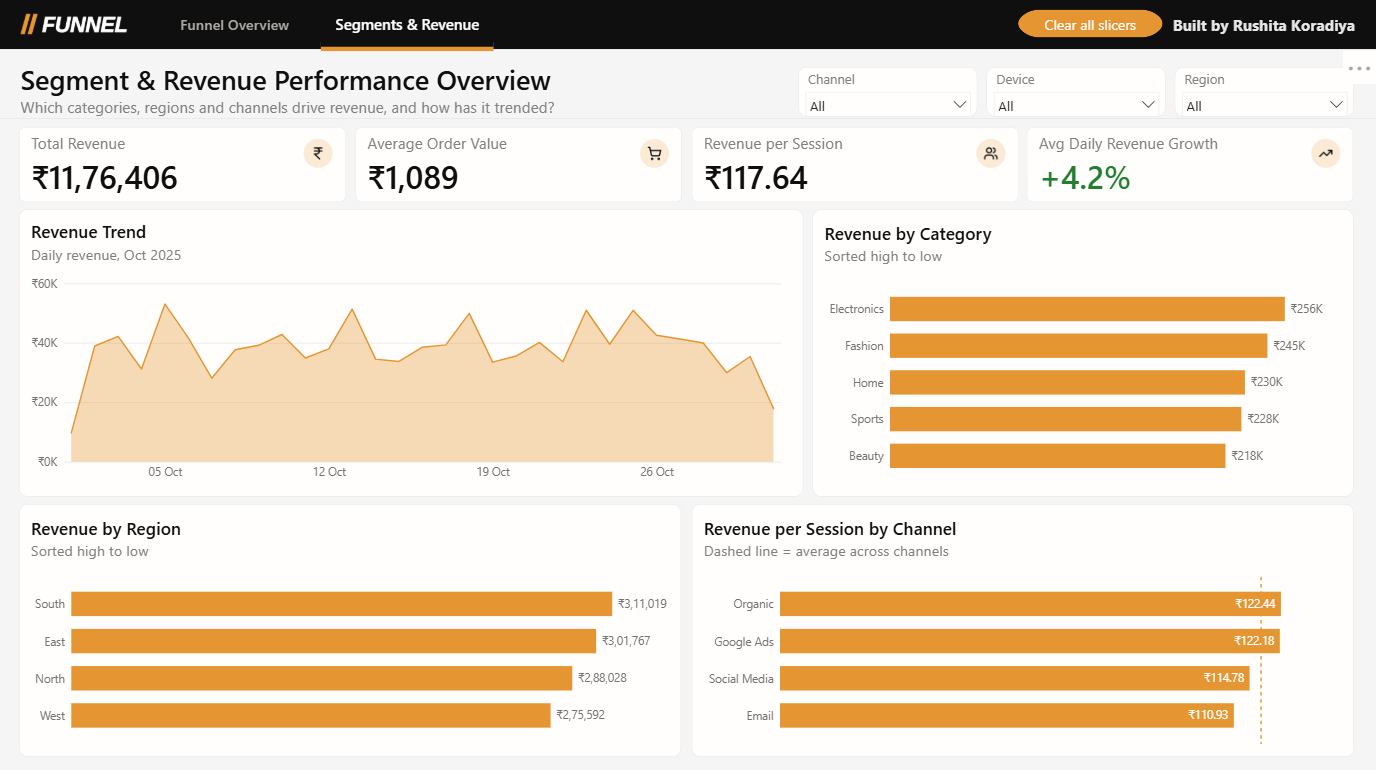

The page's visual inventory and layout, read from the dashboard file:
{"tool":"powerbi","page":{"name":"Segments & Revenue","canvas":[1920,1080],"ordinal":1},"visuals":[{"type":"shape","box":[0,0,1920,72],"z":0,"group":"g6"},{"type":"shape","box":[452,60,240,12],"z":0,"group":"g5"},{"type":"cardVisual","fields":{"Data":["_Measures.Total Revenue"]},"box":[32,180,454,104],"z":0,"group":"g1"},{"type":"shape","box":[452,55,240,12],"z":1000,"group":"g5"},{"type":"textbox","box":[34,88,1051.1,80],"z":1000,"group":"g6"},{"type":"slicer","fields":{"Values":["V_Session.Region"]},"box":[1638,95,249,69],"z":1000},{"type":"cardVisual","fields":{"Data":["_Measures.Average Order Value"]},"box":[499,180,454,104],"z":1000,"group":"g2"},{"type":"slicer","fields":{"Values":["V_Session.Device"]},"box":[1376,95,249,69],"z":2000},{"type":"cardVisual","fields":{"Data":["_Measures.Revenue per Session"]},"box":[966,180,454,104],"z":2000,"group":"g3"},{"type":"slicer","fields":{"Values":["V_Session.Channel"]},"box":[1114,95,249,69],"z":3000},{"type":"cardVisual","fields":{"Data":["_Measures.Weekly Revenue Growth"]},"box":[1433,180,454,104],"z":3000,"group":"g4"},{"type":"group","id":"g1","title":"Group 2","box":[32,180,454,104],"z":4000},{"type":"image","box":[32,16,160,40],"z":5000,"group":"g6"},{"type":"group","id":"g2","title":"Group 3","box":[499,180,454,104],"z":5000},{"type":"group","id":"g3","title":"Group 4","box":[966,180,454,104],"z":6000},{"type":"group","id":"g4","title":"Group 5","box":[1433,180,454,104],"z":7000},{"type":"areaChart","title":"Revenue Trend","fields":{"Category":["V_Purchase_Detail.Purchase_Date"],"Y":["_Measures.Total Revenue"]},"box":[32,293,1090,399],"z":8000},{"type":"clusteredBarChart","title":"Revenue by Category","fields":{"Category":["V_Purchase_Detail.Product_Category"],"Y":["_Measures.Total Revenue"]},"box":[1134.4,293.9,752,399],"z":9000},{"type":"group","id":"g5","title":"Group 1","box":[452,55,240,17],"z":10000,"group":"g7"},{"type":"clusteredBarChart","title":"Revenue by Region","fields":{"Category":["V_Session.Region"],"Y":["_Measures.Total Revenue"]},"box":[32,704,920,351],"z":10000},{"type":"image","box":[428,195,40,40],"z":11000,"group":"g1"},{"type":"clusteredBarChart","title":"Revenue per Session by Channel","fields":{"Category":["V_Session.Channel"],"Y":["_Measures.Revenue per Session"]},"box":[967,704,920,351],"z":11000},{"type":"group","id":"g6","title":"Group 7","box":[0,0,1920,168],"z":12000},{"type":"image","box":[1362,195,40,40],"z":12000,"group":"g3"},{"type":"image","box":[895,195,40,40],"z":13000,"group":"g2"},{"type":"actionButton","title":"Clear Filters","box":[1420.5,16,201,39],"z":14000},{"type":"image","box":[1829,195,40,40],"z":14000,"group":"g4"},{"type":"pageNavigator","box":[212,0,480,72],"z":14500},{"type":"actionButton","box":[1622,16,280,40],"z":14501},{"type":"group","id":"g7","title":"Group 6","box":[452,55,240,17],"z":18501,"group":"g6"}]}

Visuals, with their boxes on the page's 1920x1080 design canvas (x1, y1, x2, y2). These are canvas units, not pixel positions in the 1376x770 screenshot, which may show the page scaled, cropped or inside an application window:
shape: <box>0,0,1920,72</box>
shape: <box>452,60,692,72</box>
cardVisual - _Measures.Total Revenue: <box>32,180,486,284</box>
shape: <box>452,55,692,67</box>
textbox: <box>34,88,1085,168</box>
slicer - V_Session.Region: <box>1638,95,1887,164</box>
cardVisual - _Measures.Average Order Value: <box>499,180,953,284</box>
slicer - V_Session.Device: <box>1376,95,1625,164</box>
cardVisual - _Measures.Revenue per Session: <box>966,180,1420,284</box>
slicer - V_Session.Channel: <box>1114,95,1363,164</box>
cardVisual - _Measures.Weekly Revenue Growth: <box>1433,180,1887,284</box>
"Group 2" group: <box>32,180,486,284</box>
image: <box>32,16,192,56</box>
"Group 3" group: <box>499,180,953,284</box>
"Group 4" group: <box>966,180,1420,284</box>
"Group 5" group: <box>1433,180,1887,284</box>
"Revenue Trend" areaChart: <box>32,293,1122,692</box>
"Revenue by Category" clusteredBarChart: <box>1134,294,1886,693</box>
"Group 1" group: <box>452,55,692,72</box>
"Revenue by Region" clusteredBarChart: <box>32,704,952,1055</box>
image: <box>428,195,468,235</box>
"Revenue per Session by Channel" clusteredBarChart: <box>967,704,1887,1055</box>
"Group 7" group: <box>0,0,1920,168</box>
image: <box>1362,195,1402,235</box>
image: <box>895,195,935,235</box>
"Clear Filters" actionButton: <box>1420,16,1622,55</box>
image: <box>1829,195,1869,235</box>
pageNavigator: <box>212,0,692,72</box>
actionButton: <box>1622,16,1902,56</box>
"Group 6" group: <box>452,55,692,72</box>
